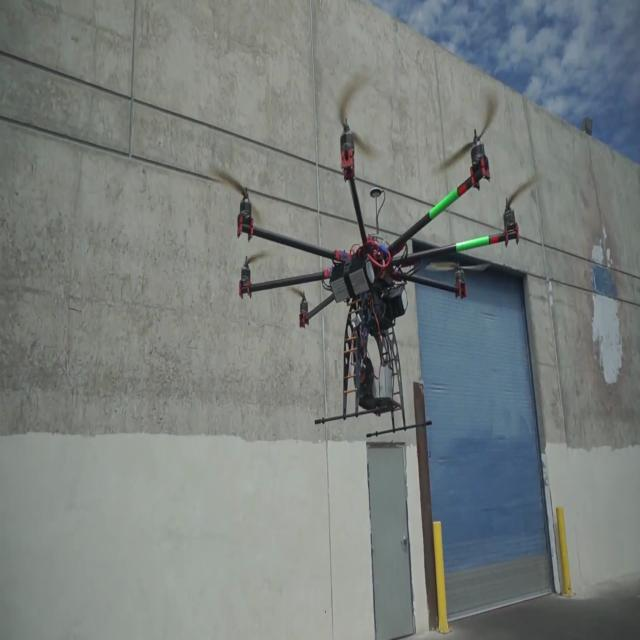drone: (226, 98, 504, 437)
